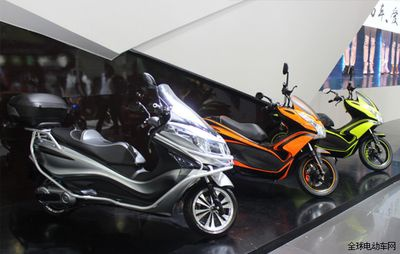non-vehicle: (8, 75, 237, 236), (189, 93, 334, 198), (268, 69, 393, 172)
